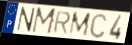4: (107, 14, 123, 41)
C: (89, 12, 108, 39)
M: (30, 7, 58, 36), (67, 12, 92, 38)
N: (15, 6, 37, 33)
R: (52, 11, 72, 35)
